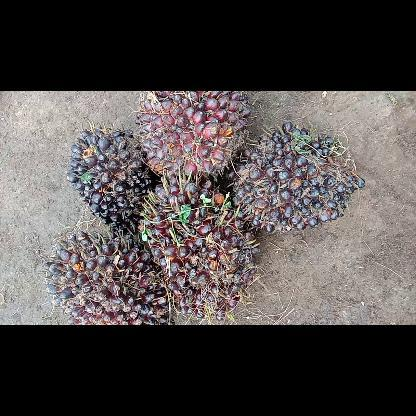TBS mentah: (134, 174, 260, 320), (226, 118, 366, 235), (38, 228, 174, 324), (132, 91, 254, 187), (64, 124, 158, 238)
